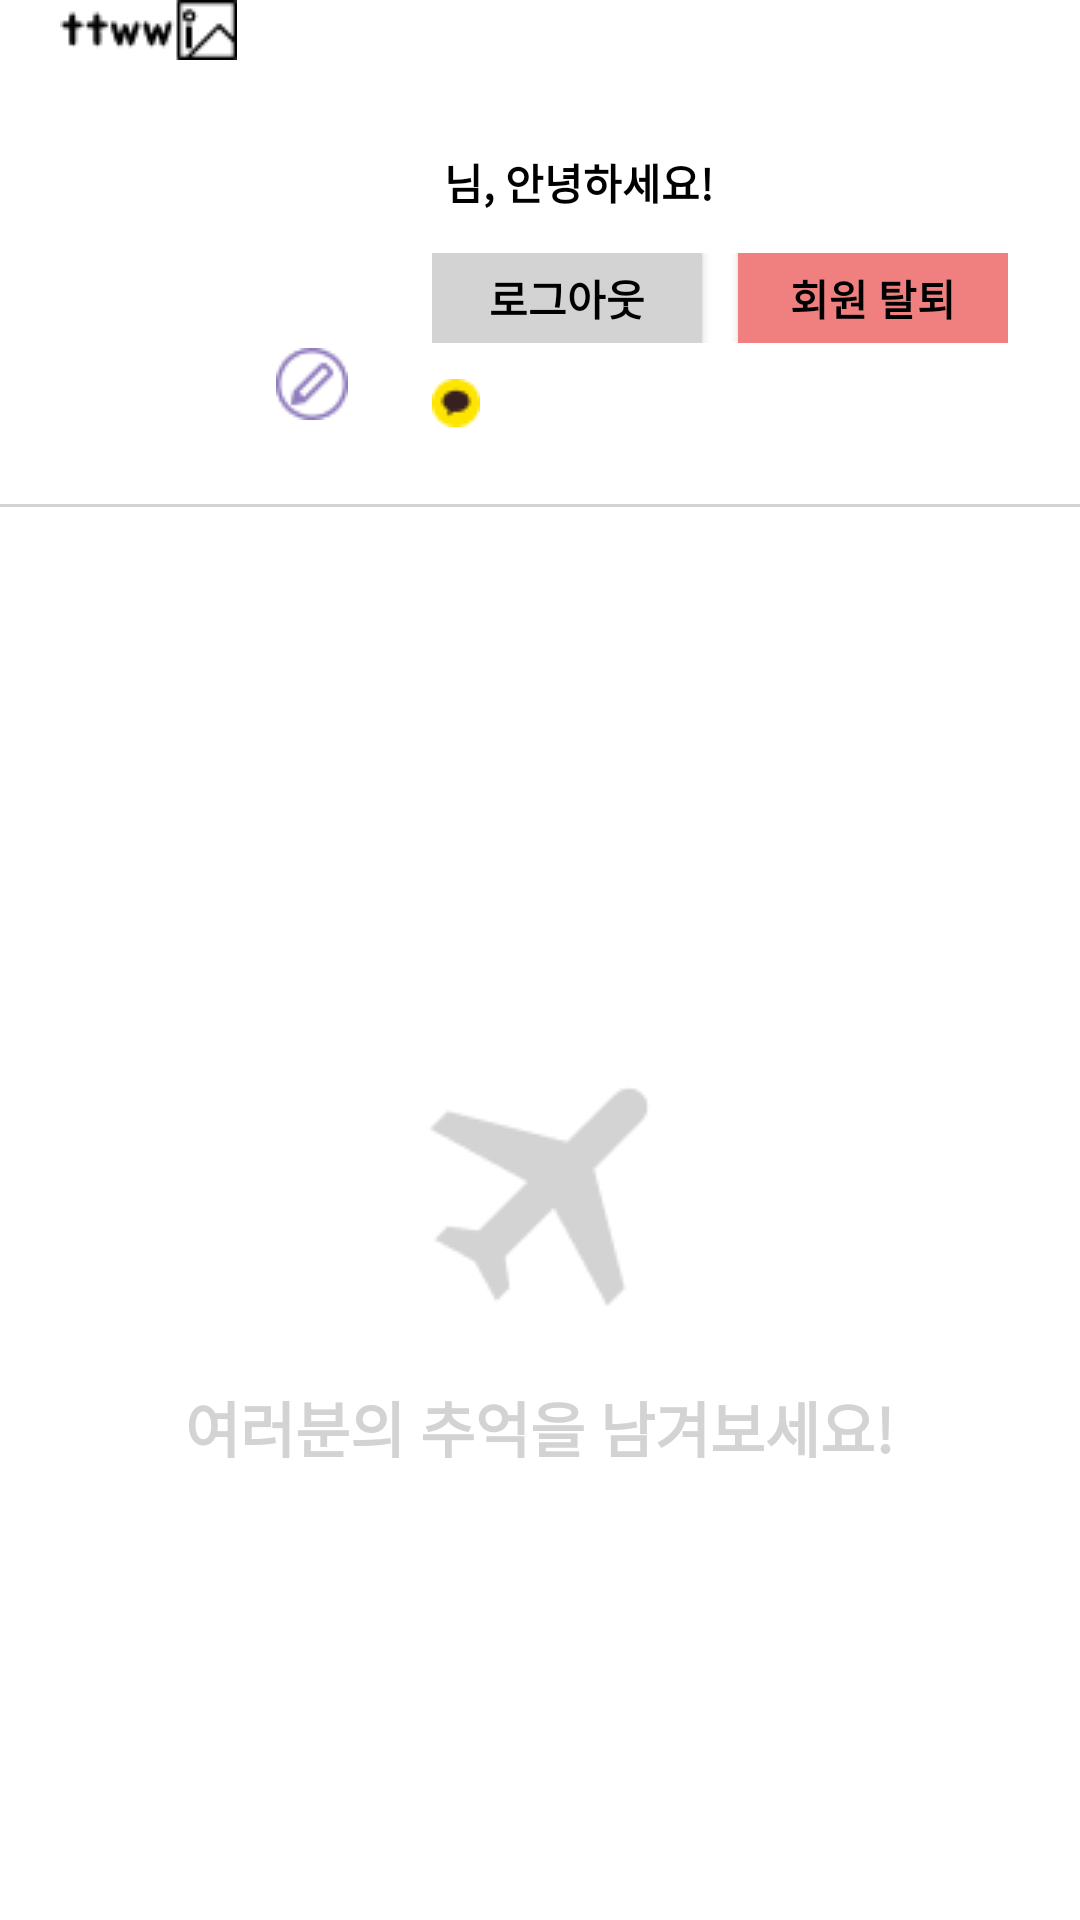

Icon click points for this 1080×1920 phone screenshot, format [x,y]:
mypage edit profile: [312,384]
